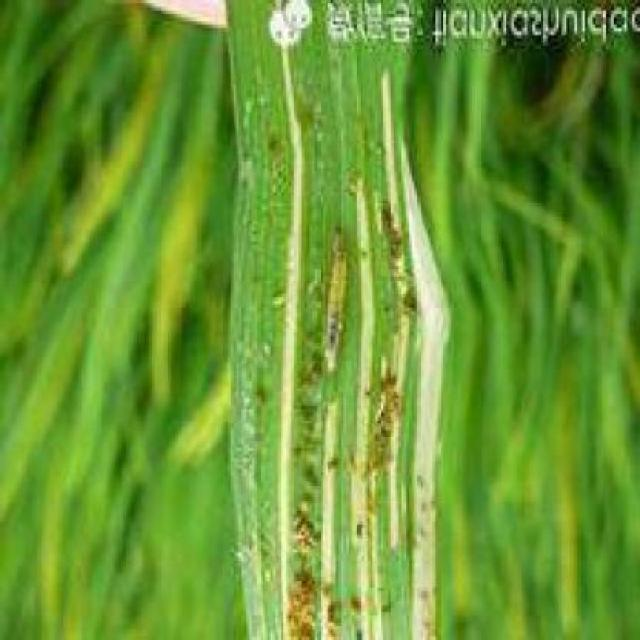leaf-folder: (297, 210, 368, 407)
